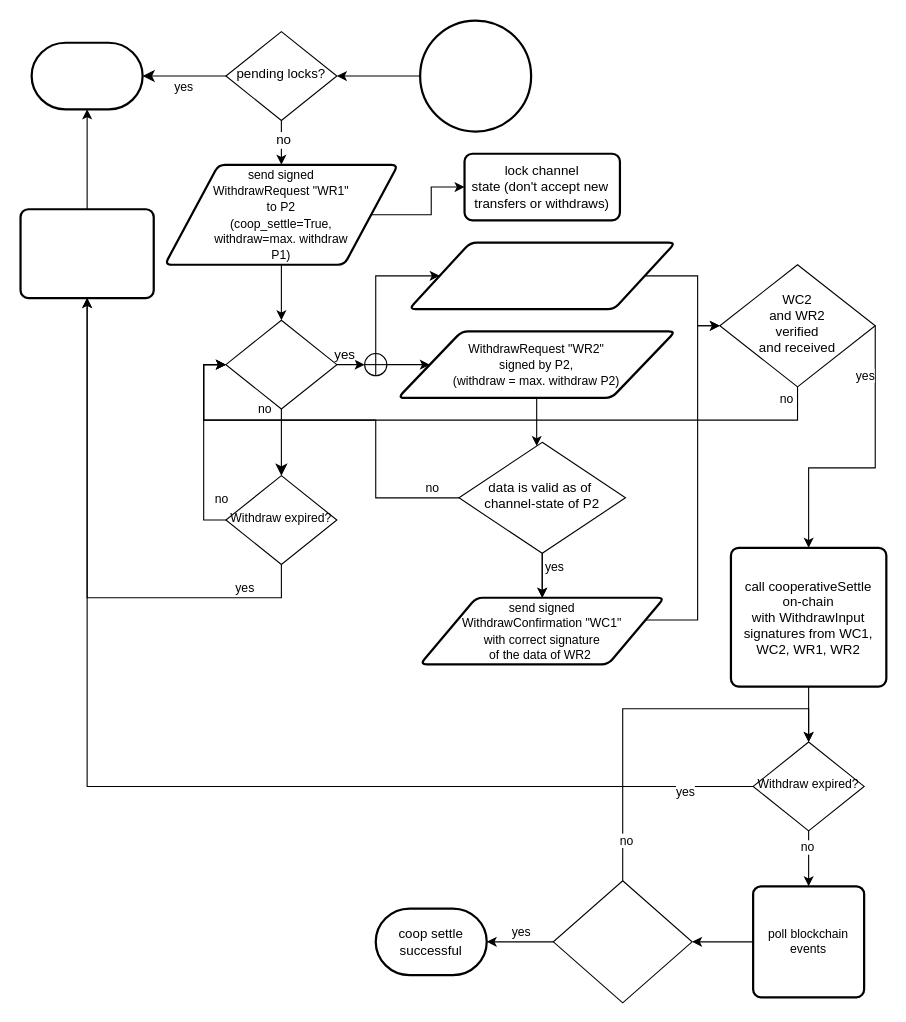
This 906x1022 diagram has some shape labels left out. Each missing label, with the centre of its shape:
coop settle unsuccessful: (x=86, y=75)
corresponding ChannelSettled event emitted: (x=622, y=941)
new messages from P2?: (x=281, y=364)
P1 initiates coop settle for channel with P2: (x=475, y=75)
release channel state (accept new transfers or withdraws): (x=86, y=253)
WithdrawConfirmation "WC2" with correct signature of the data of WR1 by P2: (x=541, y=275)
